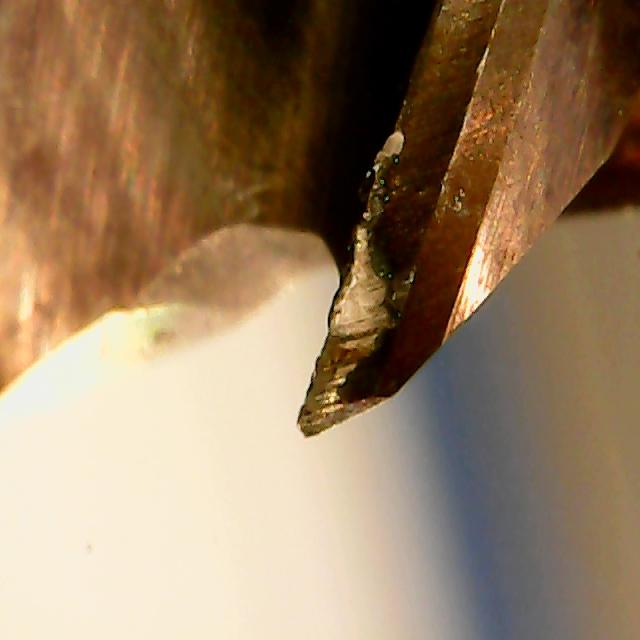Tool-wear-class-2: (288, 211, 456, 445)
